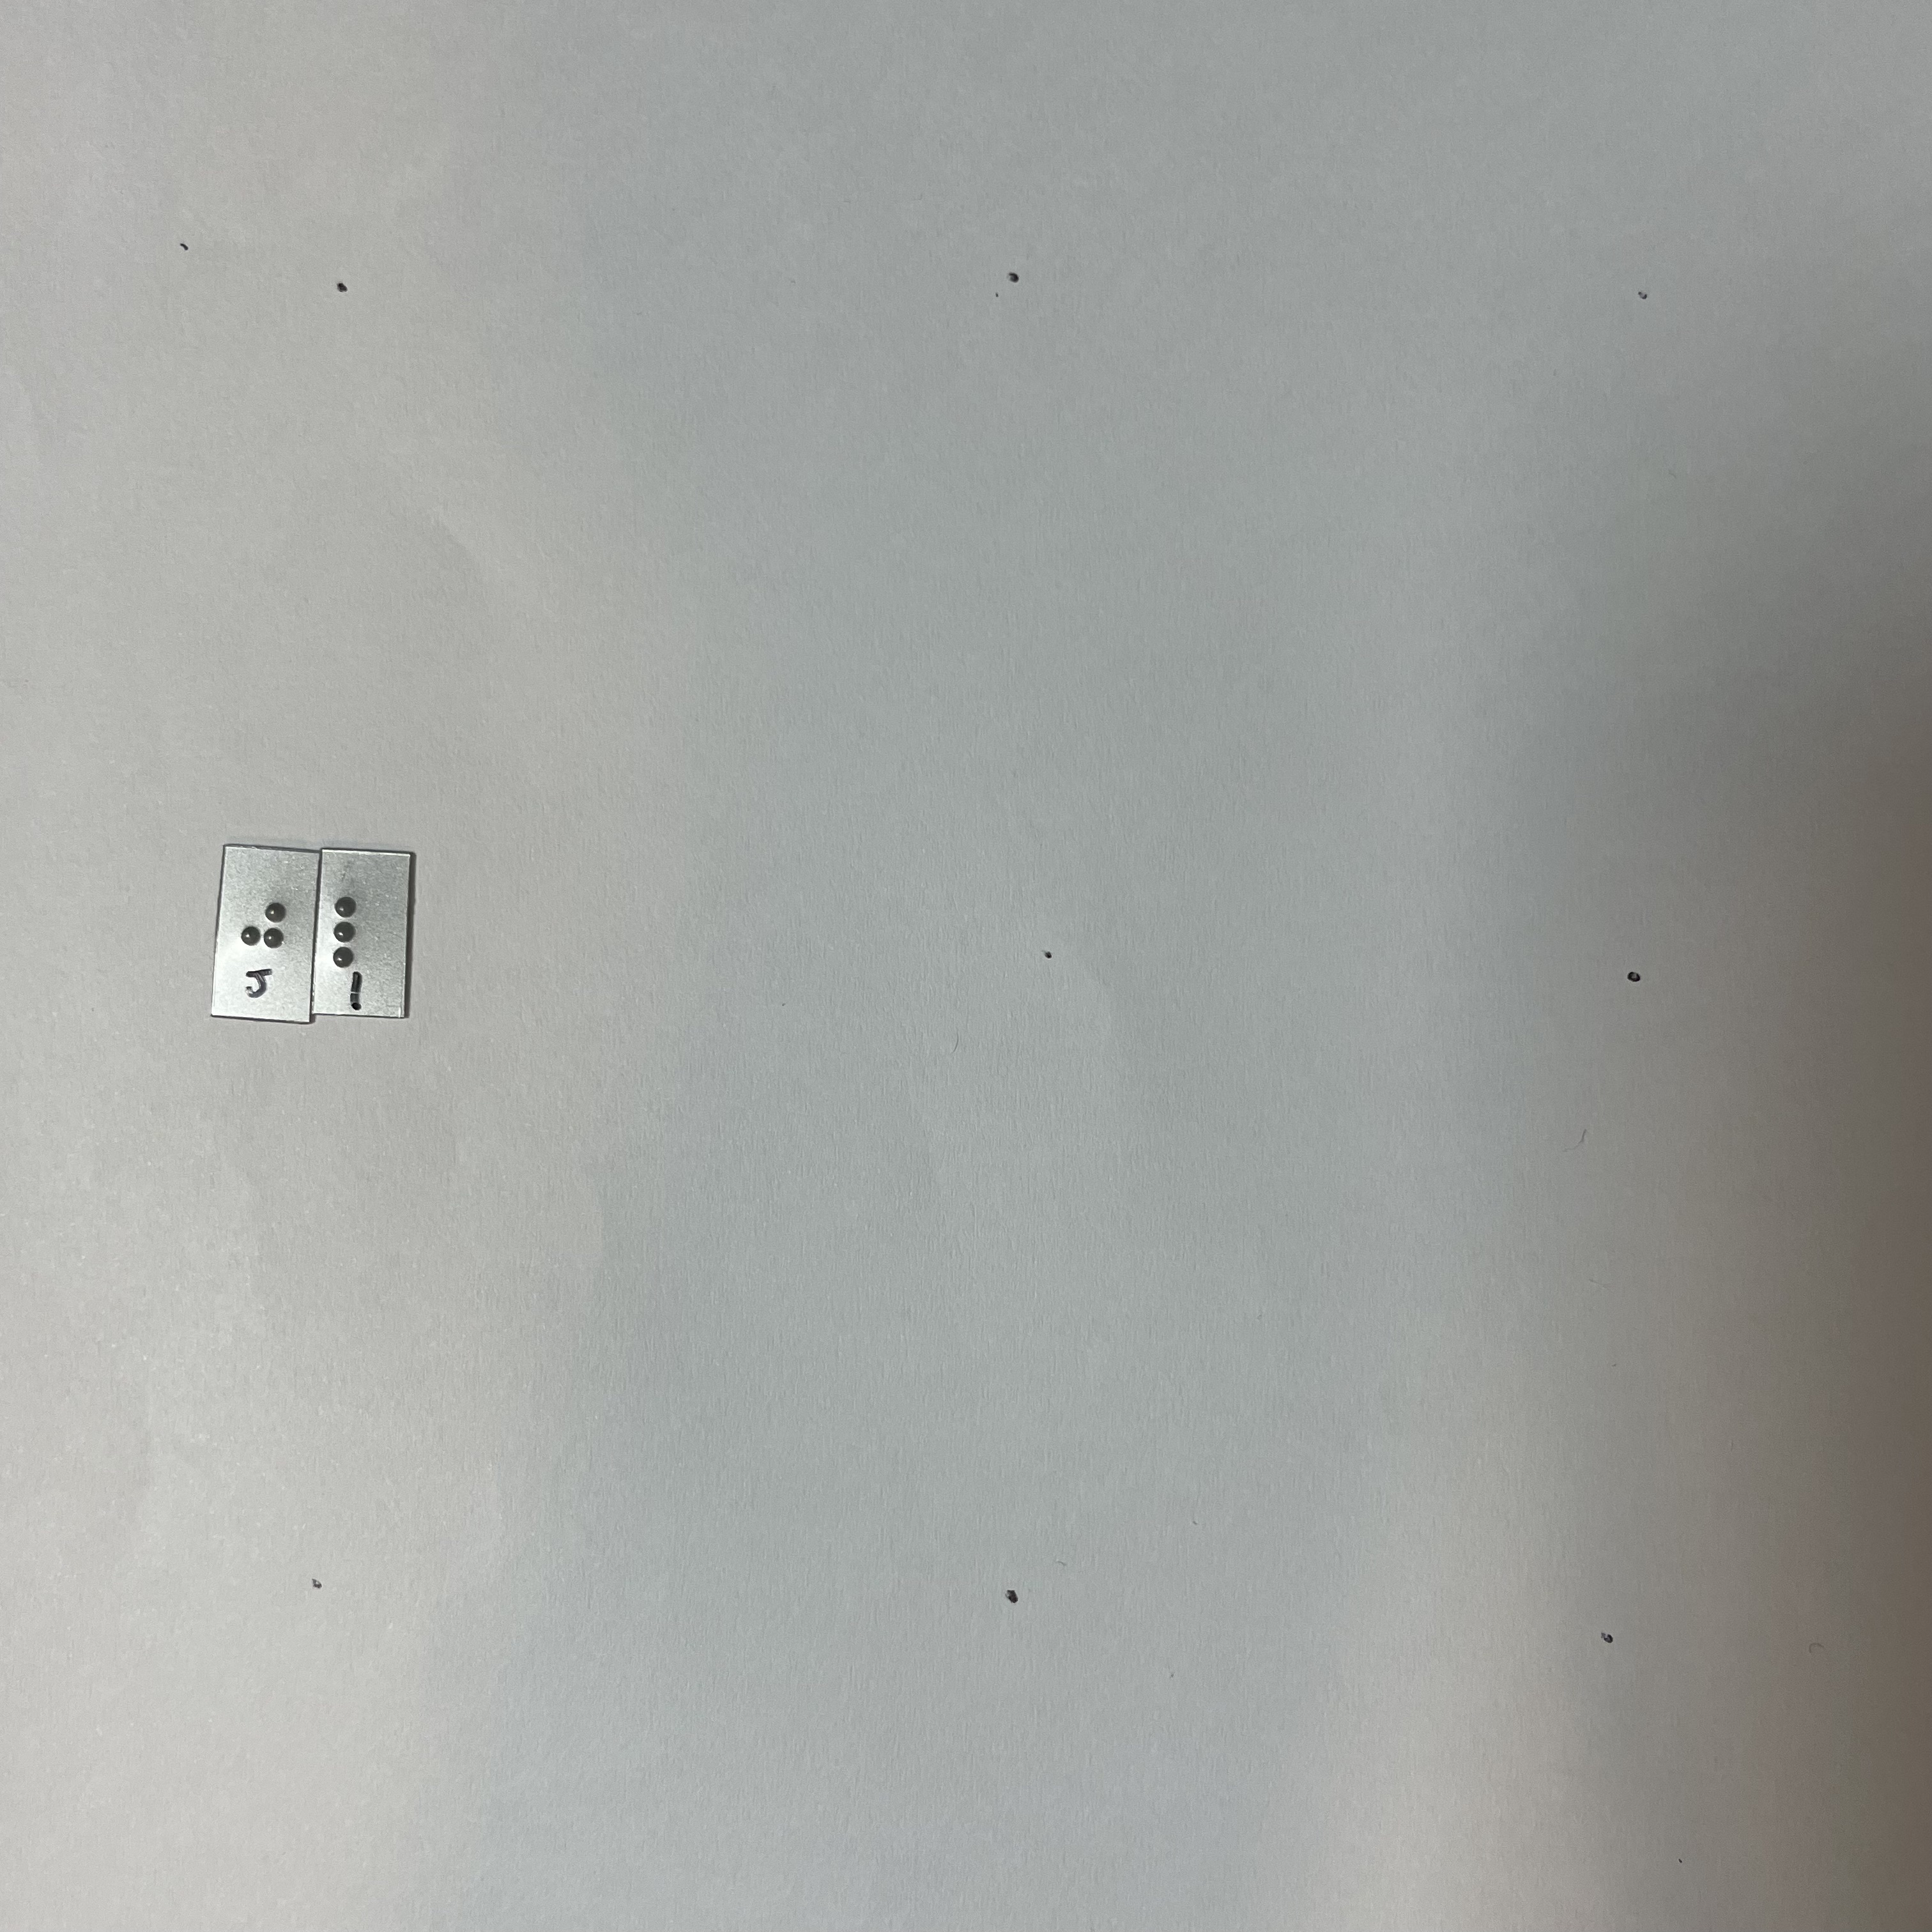j: (232, 892, 291, 978)
l: (325, 887, 384, 967)
